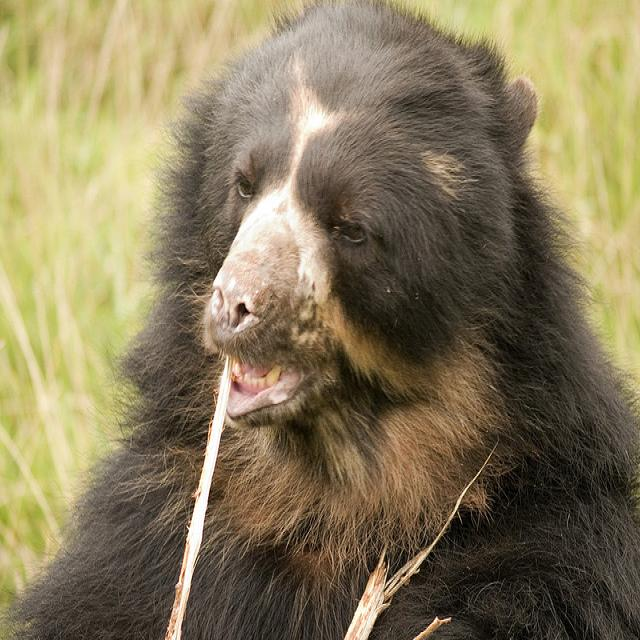Bear: (30, 0, 640, 640)
